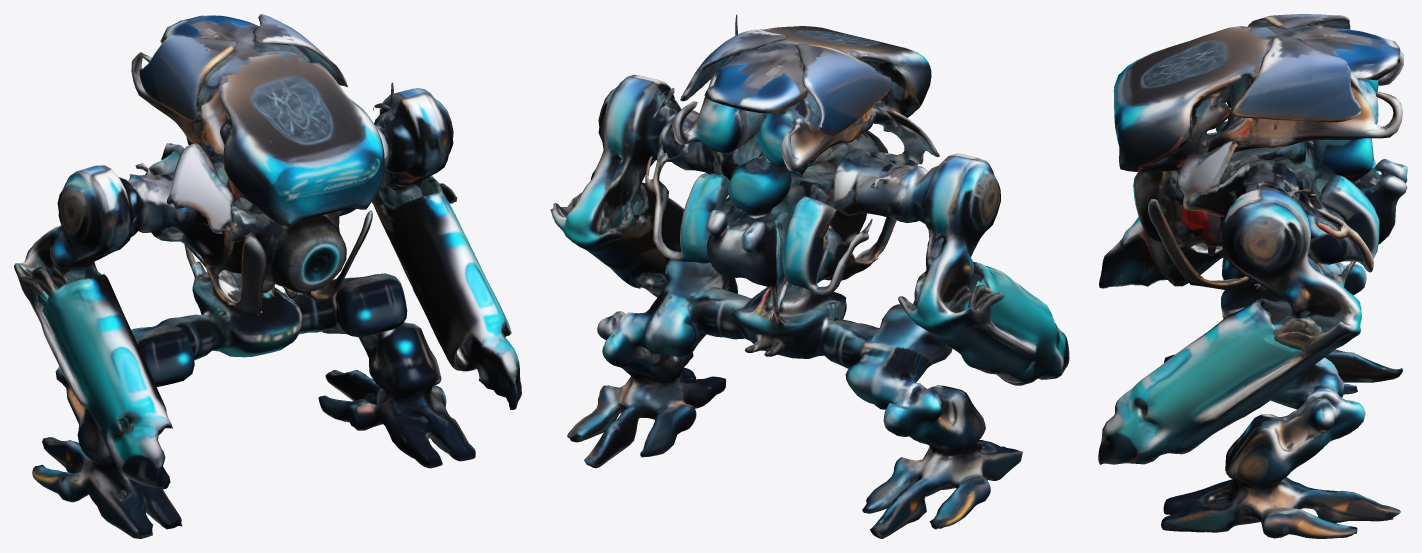
File: Cybernetic_Sentinel_1104042648.glb
The picture shows the model from 3 angles, left to right: view 1: azimuth 30°, elevation 25°; view 2: azimuth 150°, elevation 25°; view 3: azimuth 270°, elevation 25°; orthographic projection.
Size of the model in its own units: 1.88 by 1.81 by 1.21.
1 material, 1 textured.
